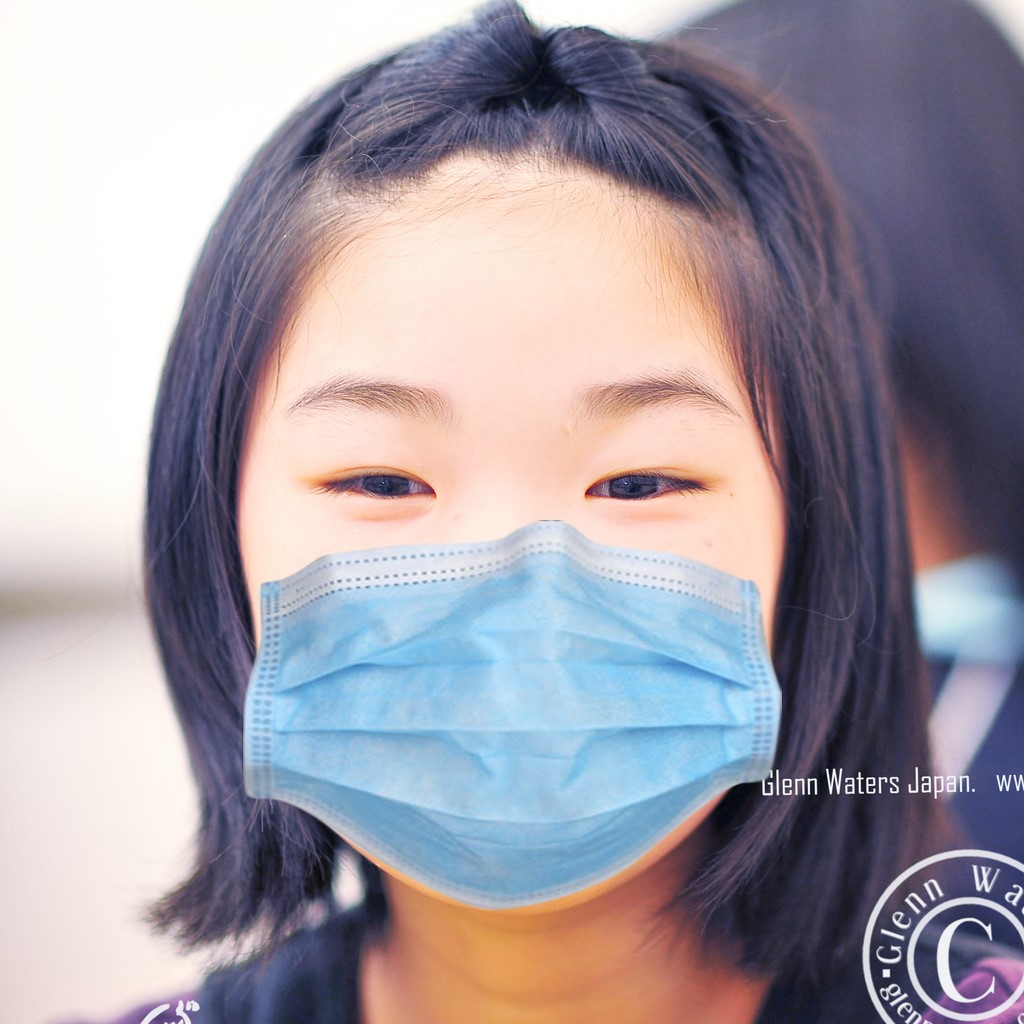con_mascara: (202, 127, 792, 913)
